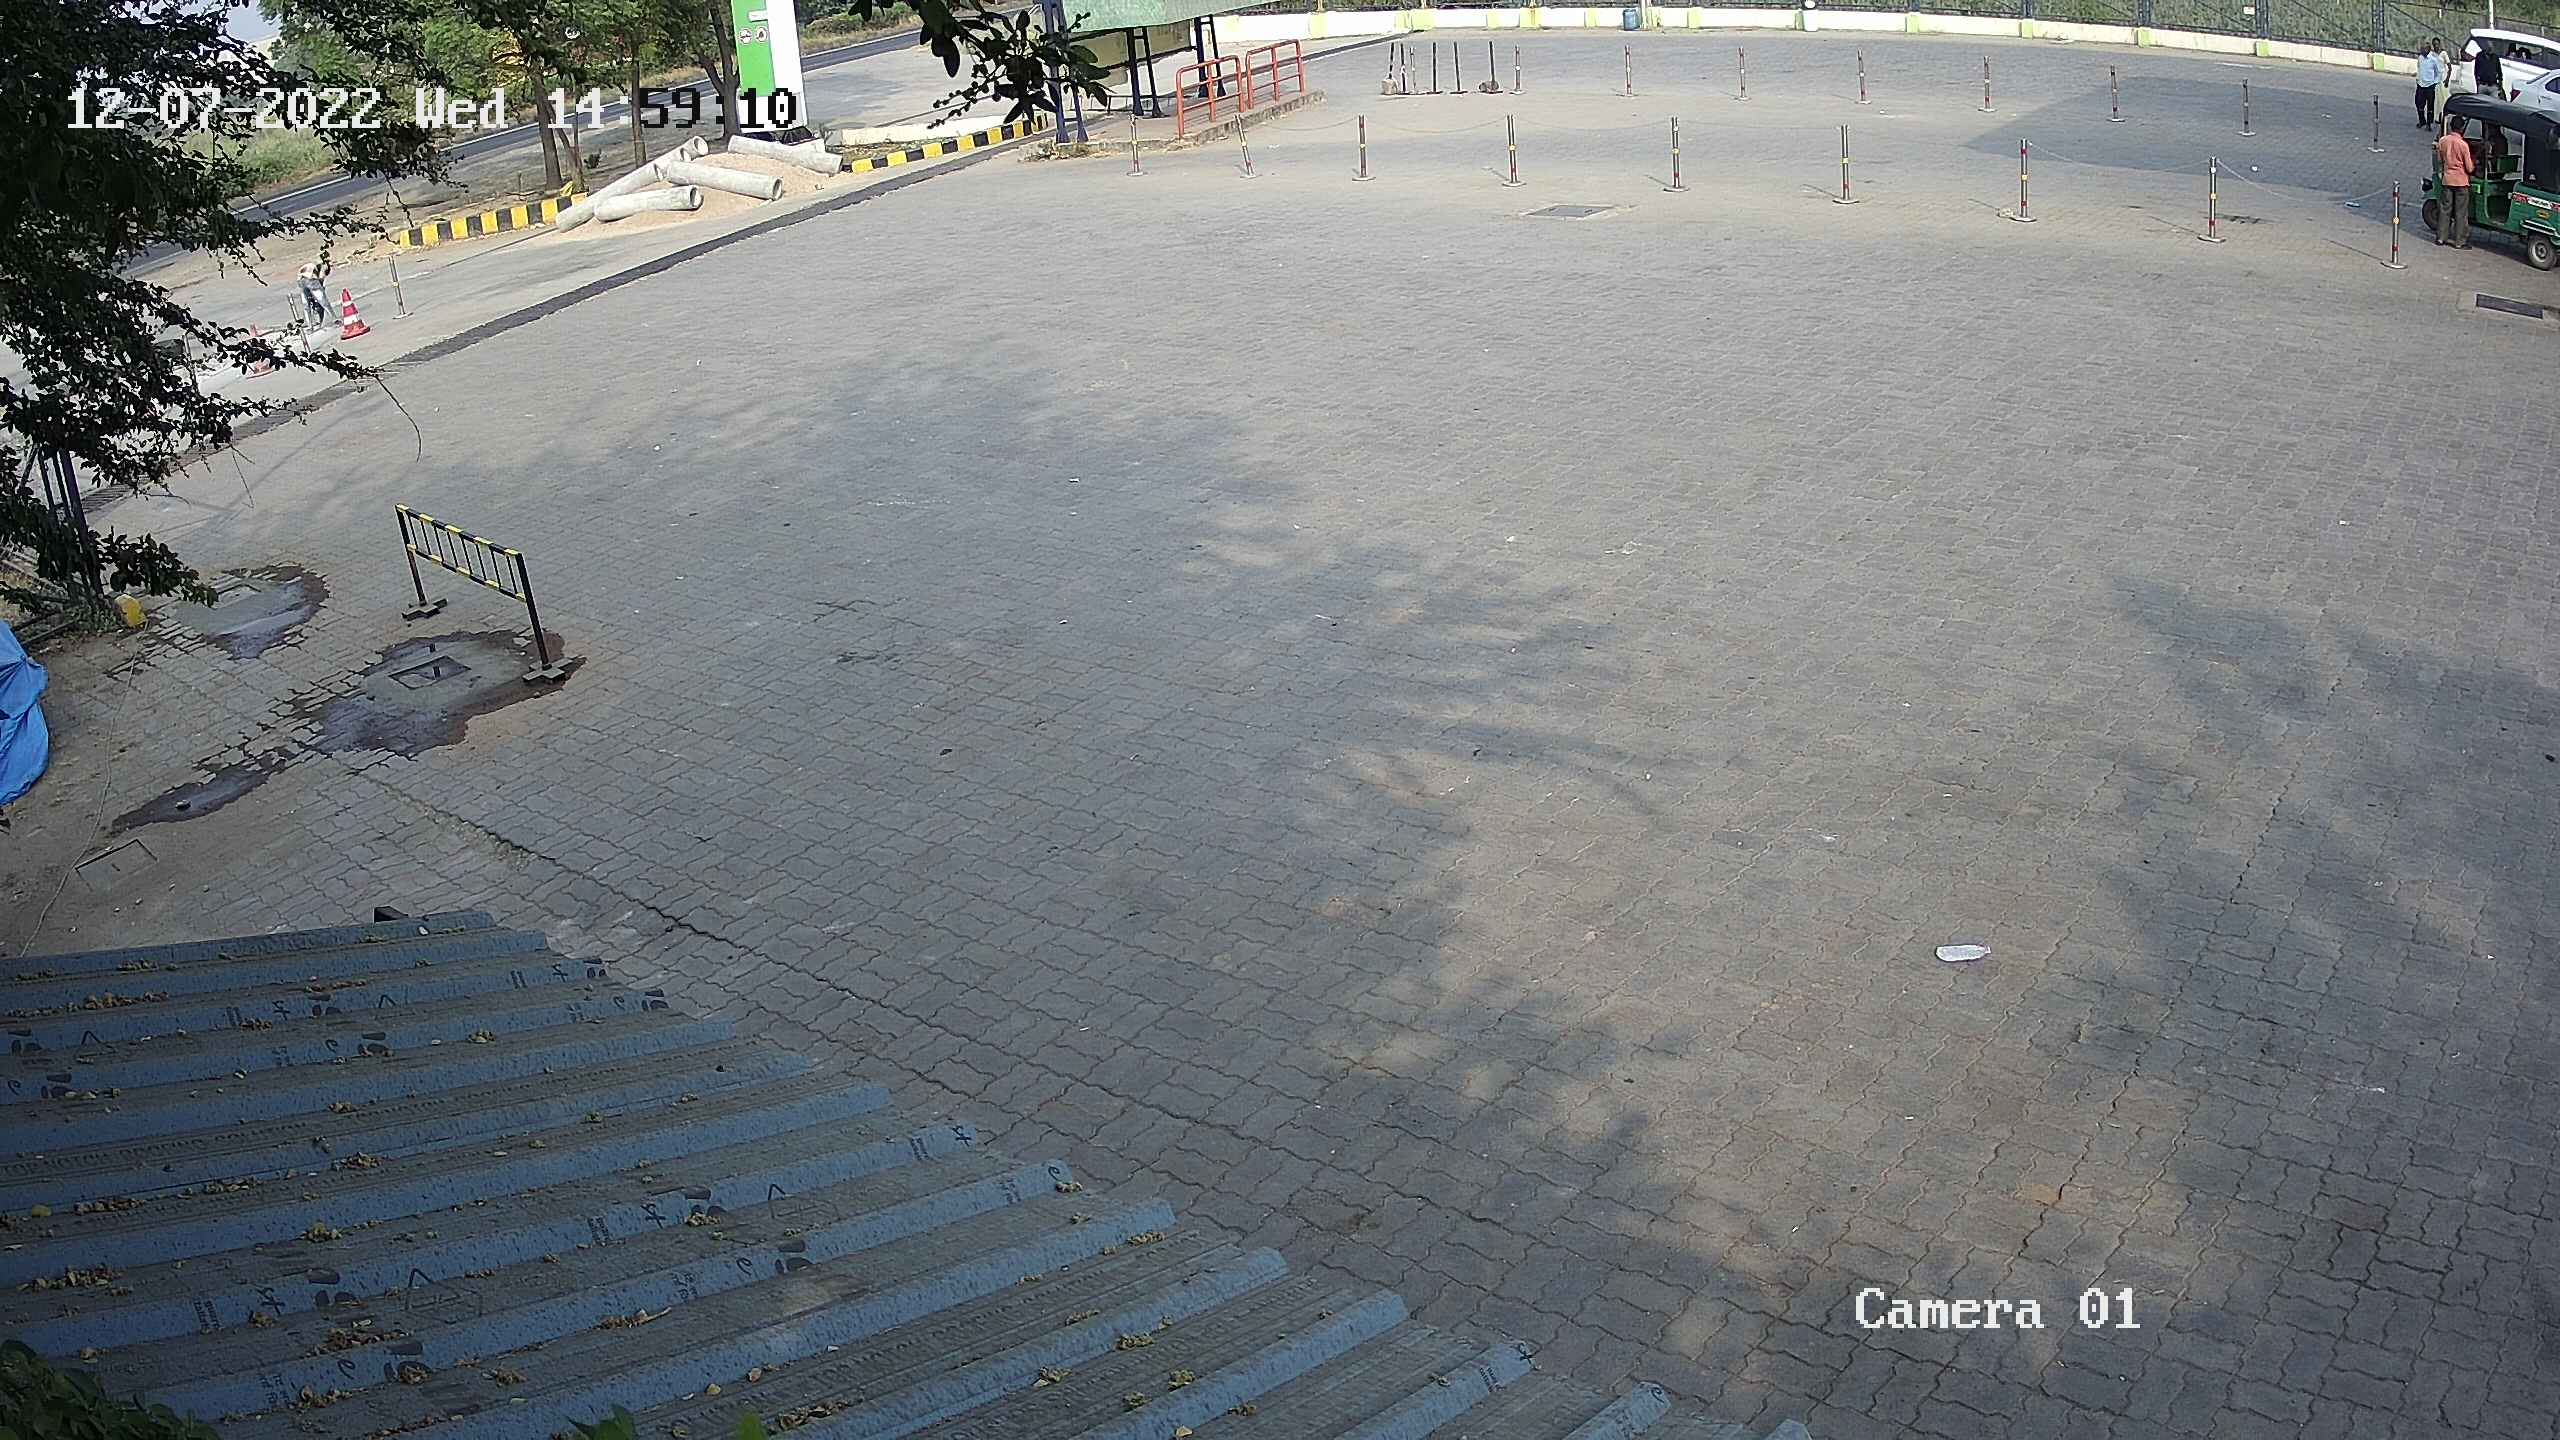Auto: (2391, 77, 2555, 288)
Car: (2432, 19, 2556, 111), (2493, 47, 2556, 139)
